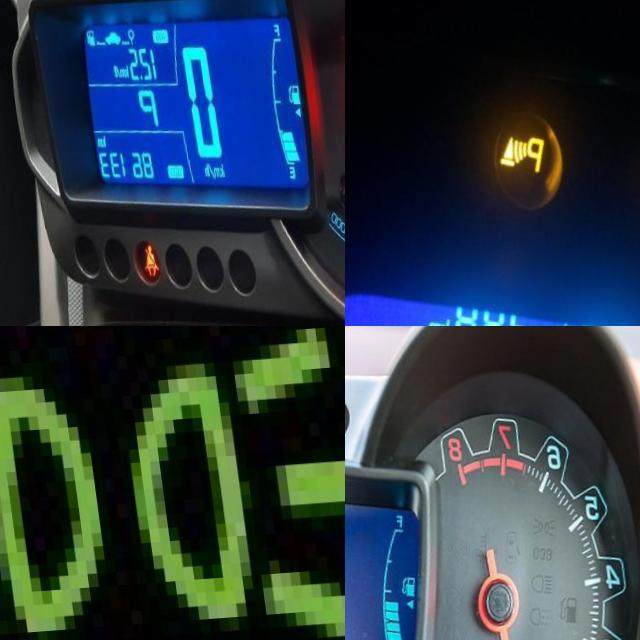SideLamp: (0, 326, 345, 640)
